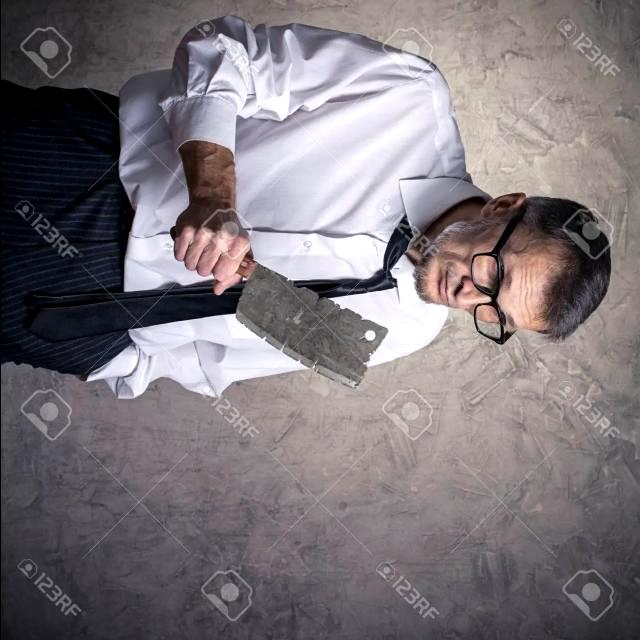long knife: (145, 225, 427, 397)
